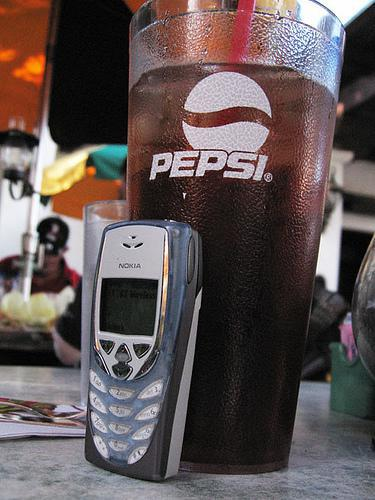phone: (88, 227, 184, 471)
